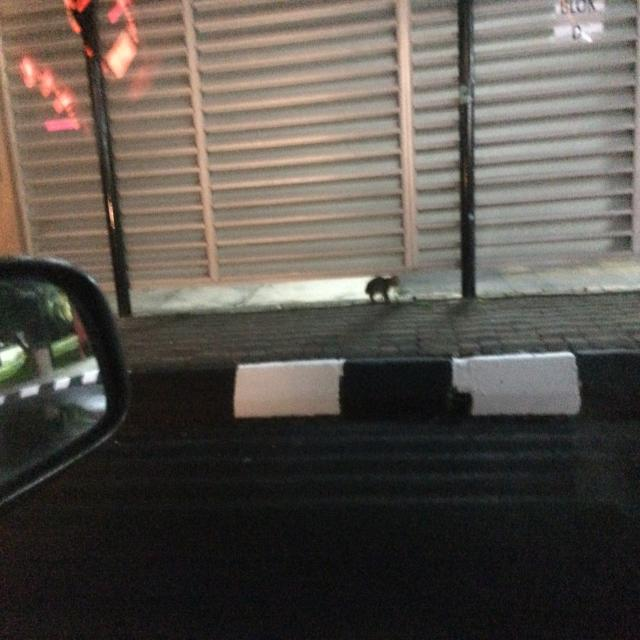Cat: (359, 262, 408, 312)
